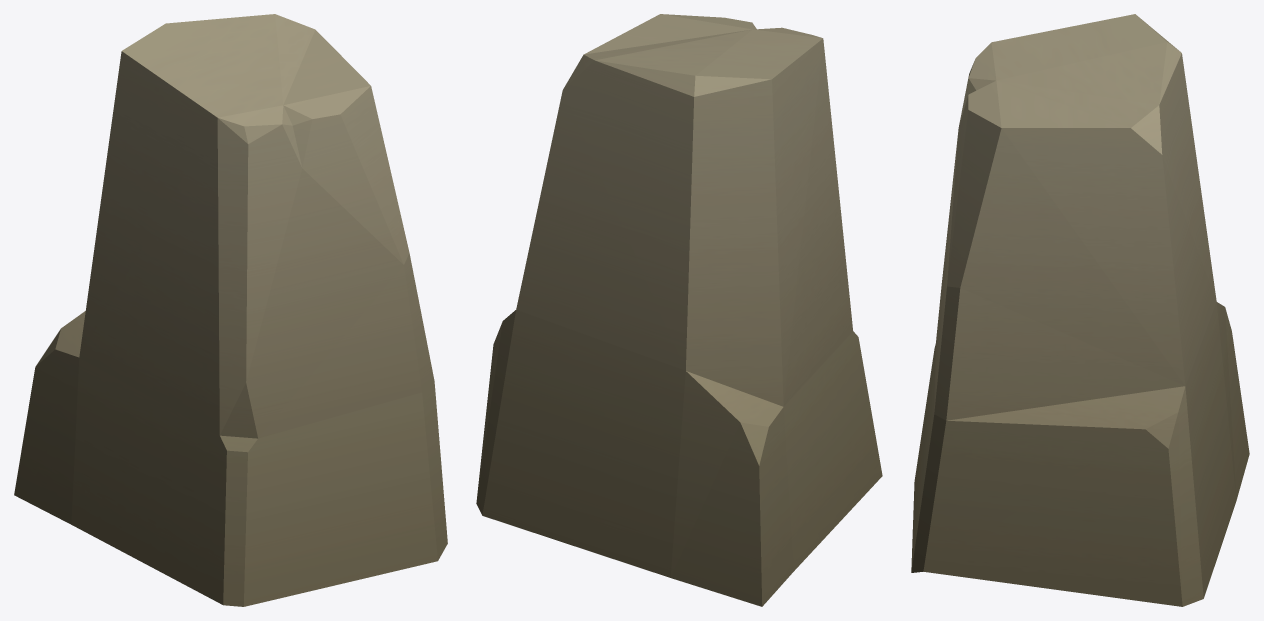
File: Rock_07.fbx
3 views of the same model, side by side, from view 1: azimuth 30°, elevation 25°; view 2: azimuth 150°, elevation 25°; view 3: azimuth 270°, elevation 25° (orthographic). The views are drawn at different scales.
Visible parts, largest first — view 1: Rock_07; view 2: Rock_07; view 3: Rock_07.
Part boxes in pixels (x1,y1,x2,y2): Rock_07: (14, 14, 447, 606); Rock_07: (476, 14, 882, 606); Rock_07: (911, 14, 1249, 606).
Bounding box in the file's own units: 390 × 552 × 365.
